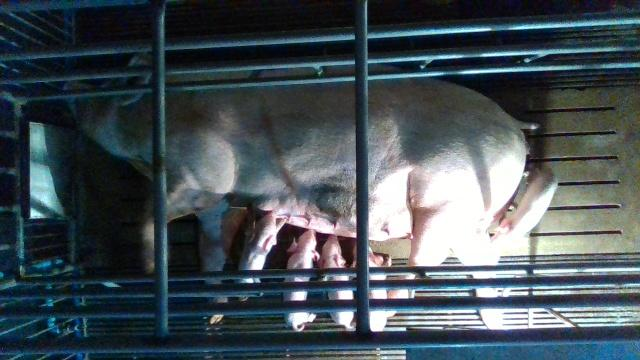piglet: (493, 165, 558, 249), (233, 204, 288, 300), (352, 245, 393, 333), (321, 231, 356, 332), (285, 228, 318, 333)
sow-sleep-lactate: (63, 55, 538, 329)
